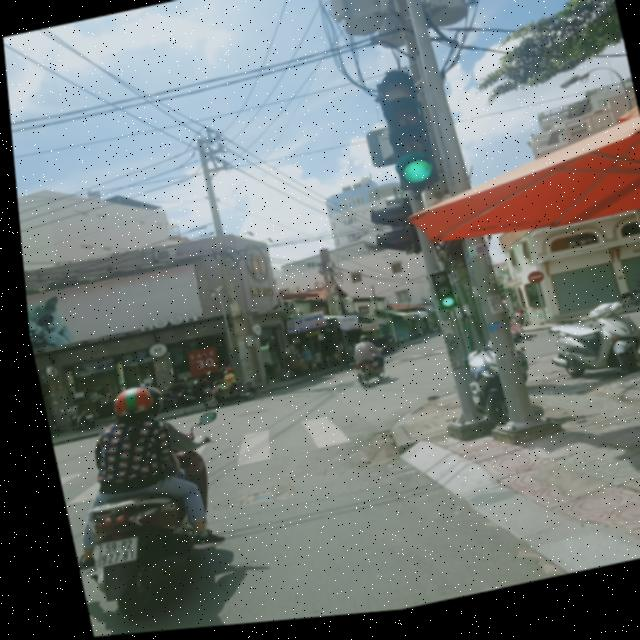Green: (370, 105, 436, 202), (409, 270, 456, 322)
